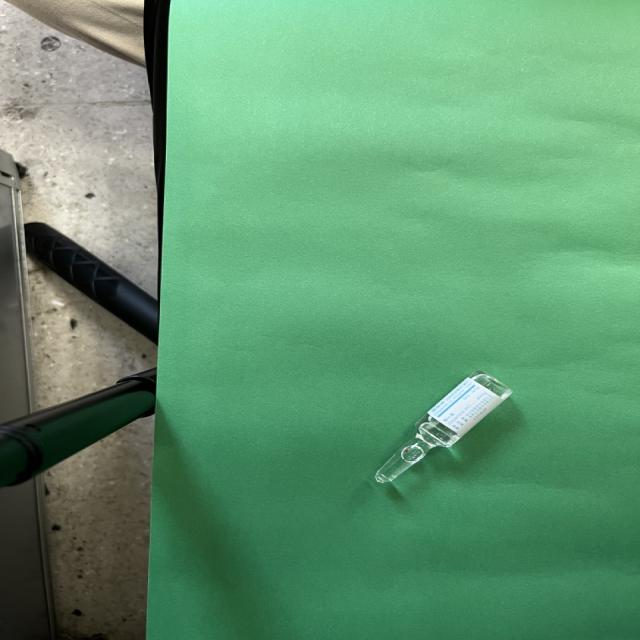Ampoules: (375, 370, 512, 483)
